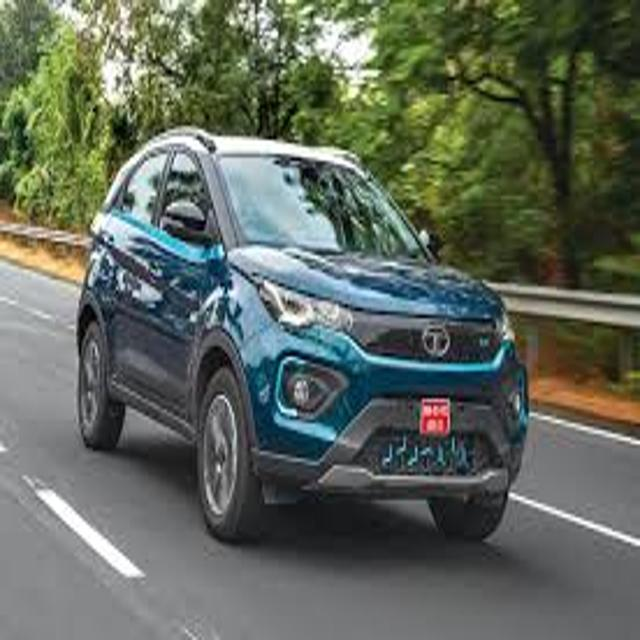car: (78, 130, 530, 544)
